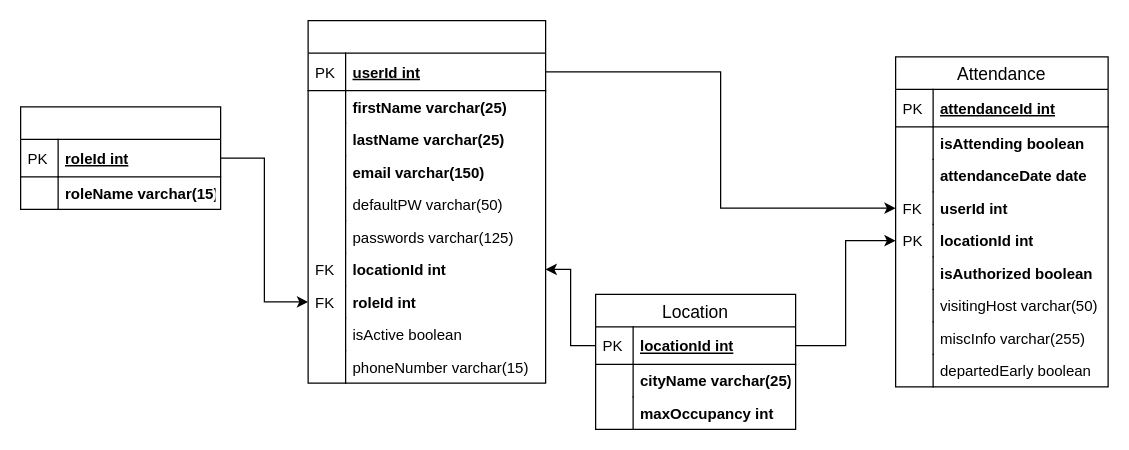
Some shapes in this 1129 by 450 pixel diagram are drawn without their labels. The box of each missing label's shape, as (x1, y1, x2, y2) in pixels:
Roles: (19, 106, 221, 209)
Users: (307, 19, 546, 383)
